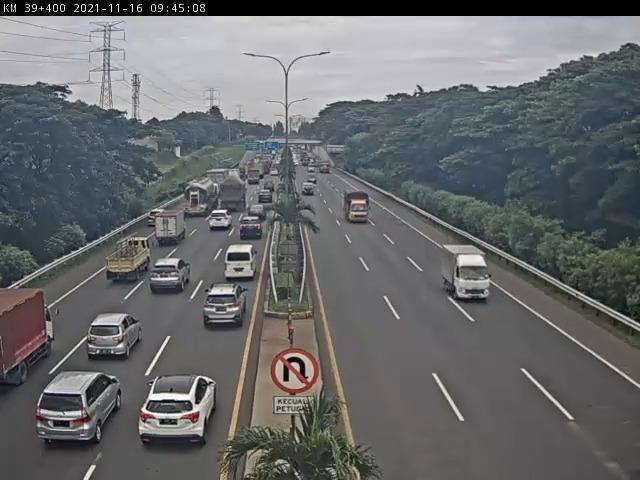car: (36, 374, 123, 446), (139, 378, 219, 445), (88, 314, 142, 360), (204, 283, 246, 328), (150, 258, 190, 294), (225, 244, 258, 279), (239, 219, 265, 241), (211, 211, 232, 232), (247, 204, 269, 222), (149, 209, 166, 226)
truck: (2, 290, 57, 388), (443, 244, 492, 304), (105, 238, 155, 285), (181, 180, 215, 218), (155, 211, 189, 244), (218, 181, 248, 214), (345, 192, 371, 227)
